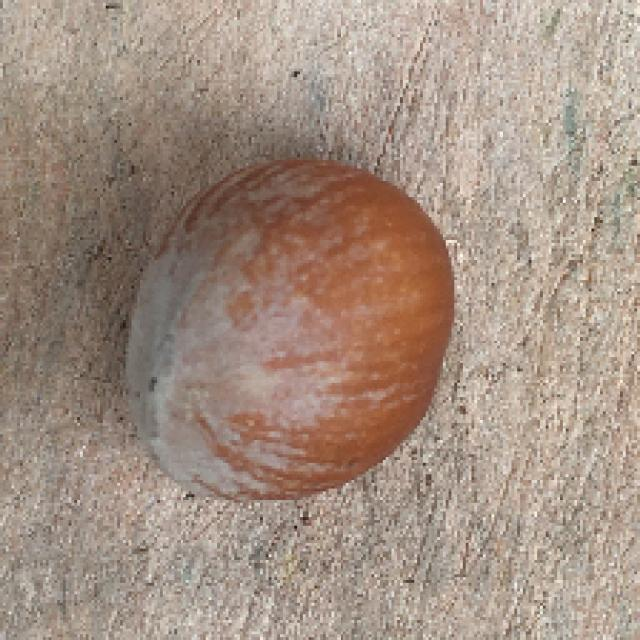QualityHazelnut: (128, 157, 457, 502)
